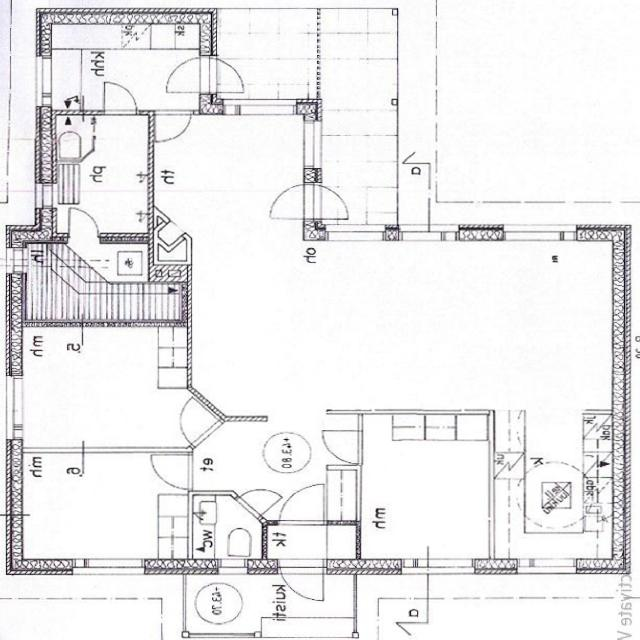door: (165, 397, 222, 448), (280, 559, 323, 612), (264, 184, 322, 220), (304, 184, 362, 220), (279, 482, 324, 526), (160, 58, 217, 92), (200, 58, 256, 92), (236, 480, 282, 519), (148, 455, 192, 490), (317, 431, 361, 464), (154, 110, 190, 146), (104, 82, 136, 115), (68, 208, 98, 238)
